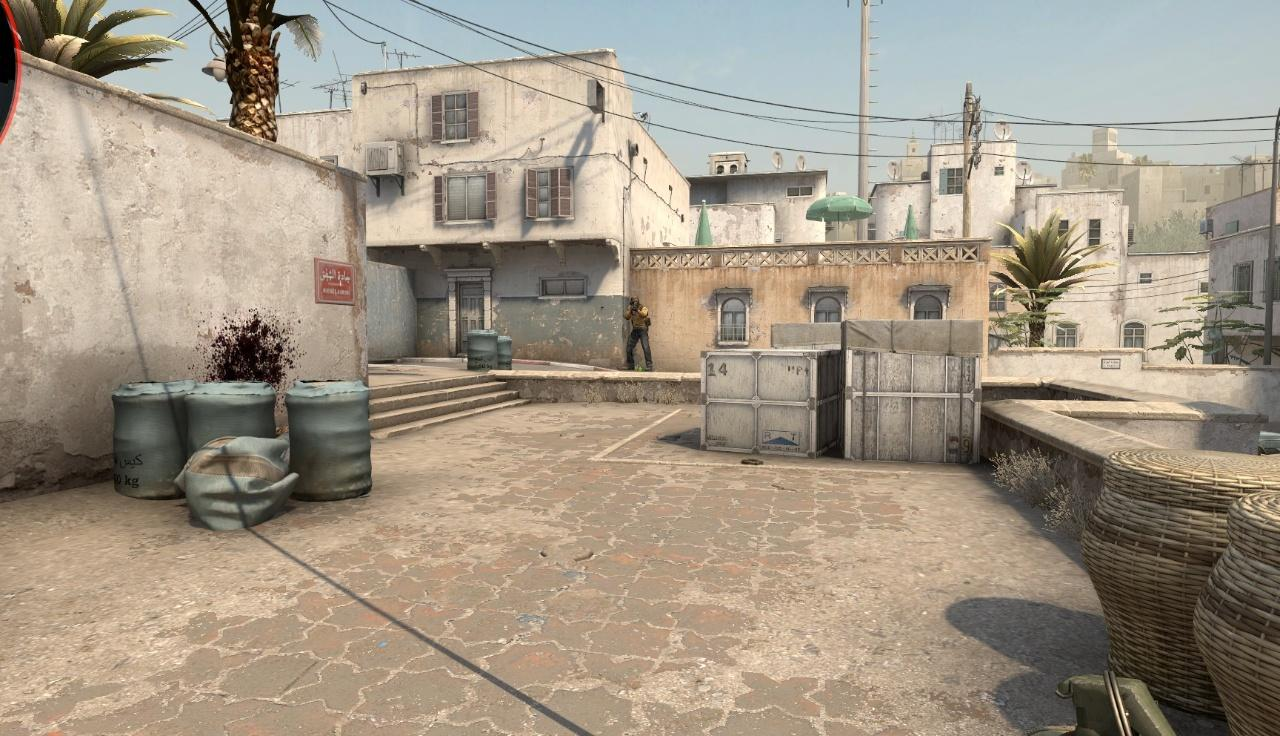tt: (625, 296, 649, 371)
tthead: (630, 296, 640, 308)
